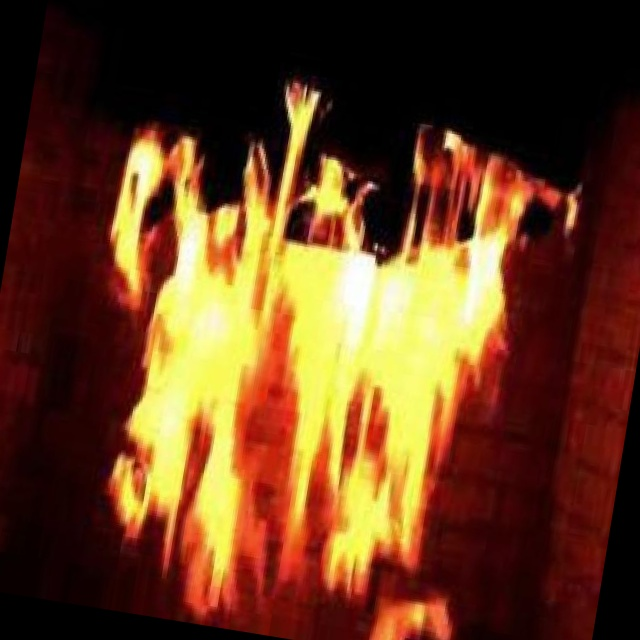fire: (32, 53, 586, 640)
